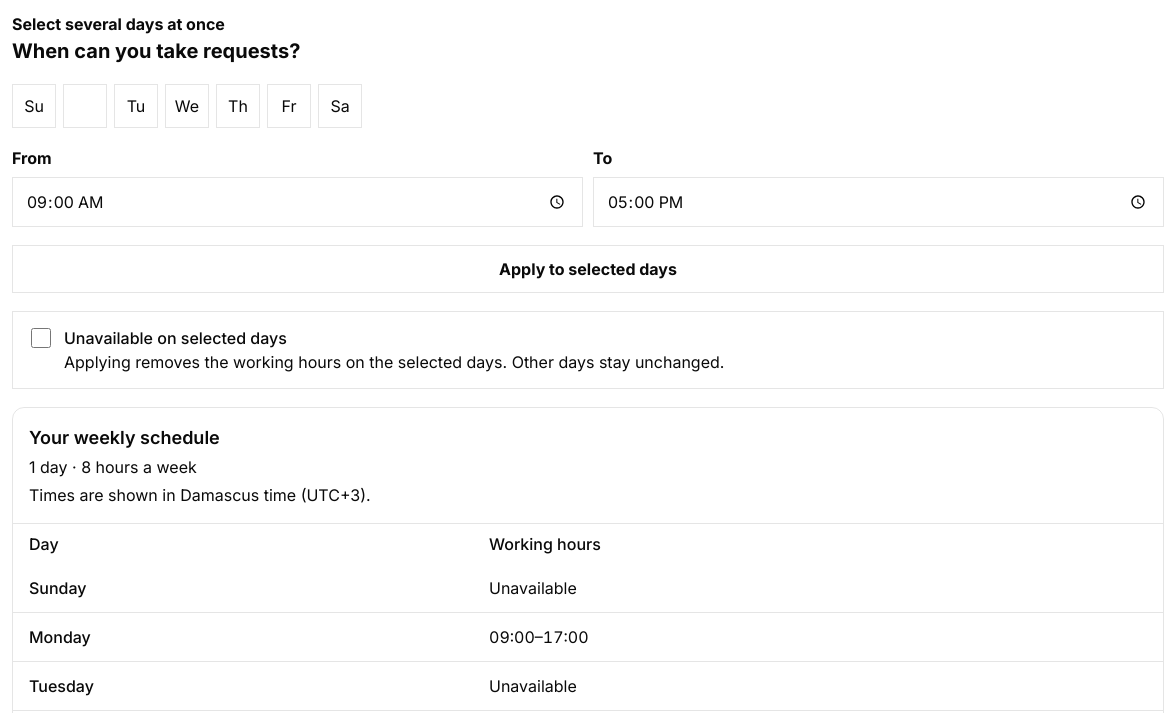
Test: visible applied schedule and honest acknowledgement › retains time-only unapplied edits across a refetch and keeps the applied summary unchanged
The image size is (1176, 713).
Replace the text in the time field with test id "bulk-start" with "10:30" at [298, 202], box [12,177,583,227]
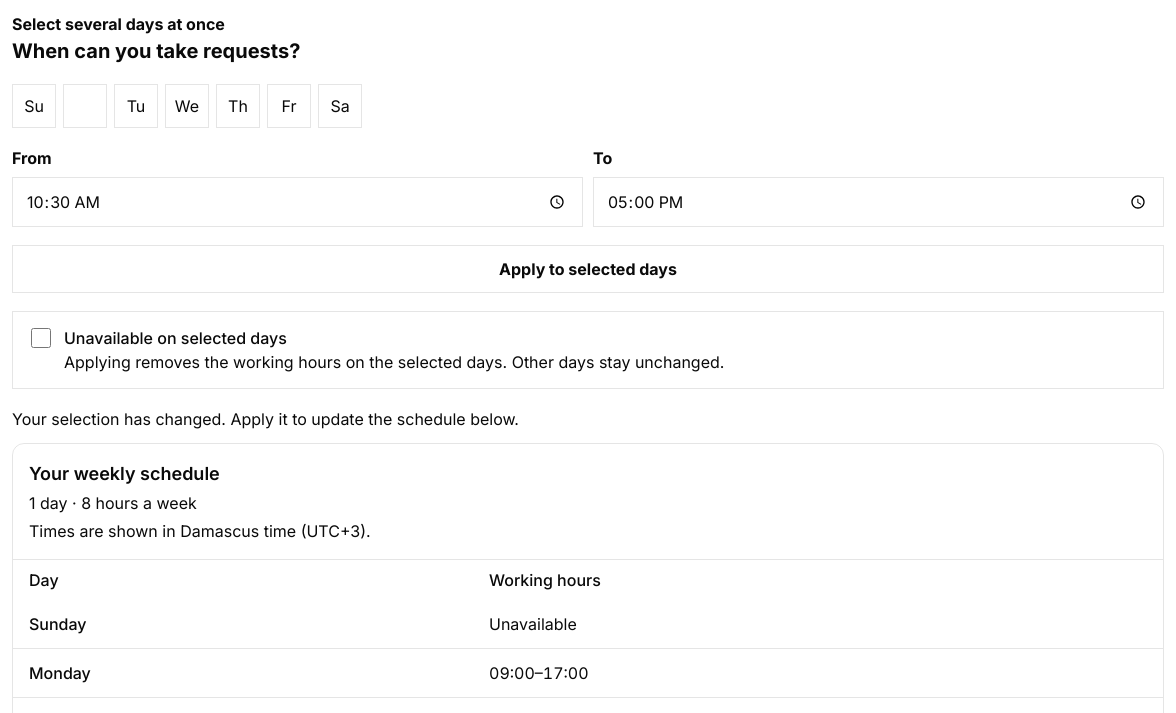
expect the row with test id "availability-summary-day-1" shows "09:00–17:00": met, box [489,663,589,683]
expect the message with test id "availability-unapplied" reads "Your selection has changed. Apply it to update the schedule below.": met, box [12,409,519,429]
